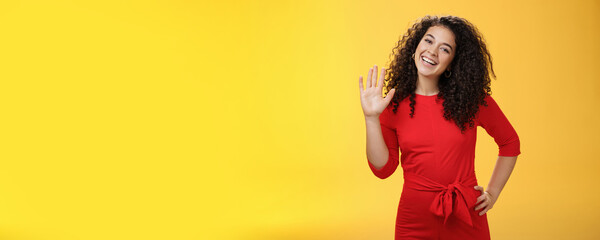Hello: (352, 61, 400, 118)
